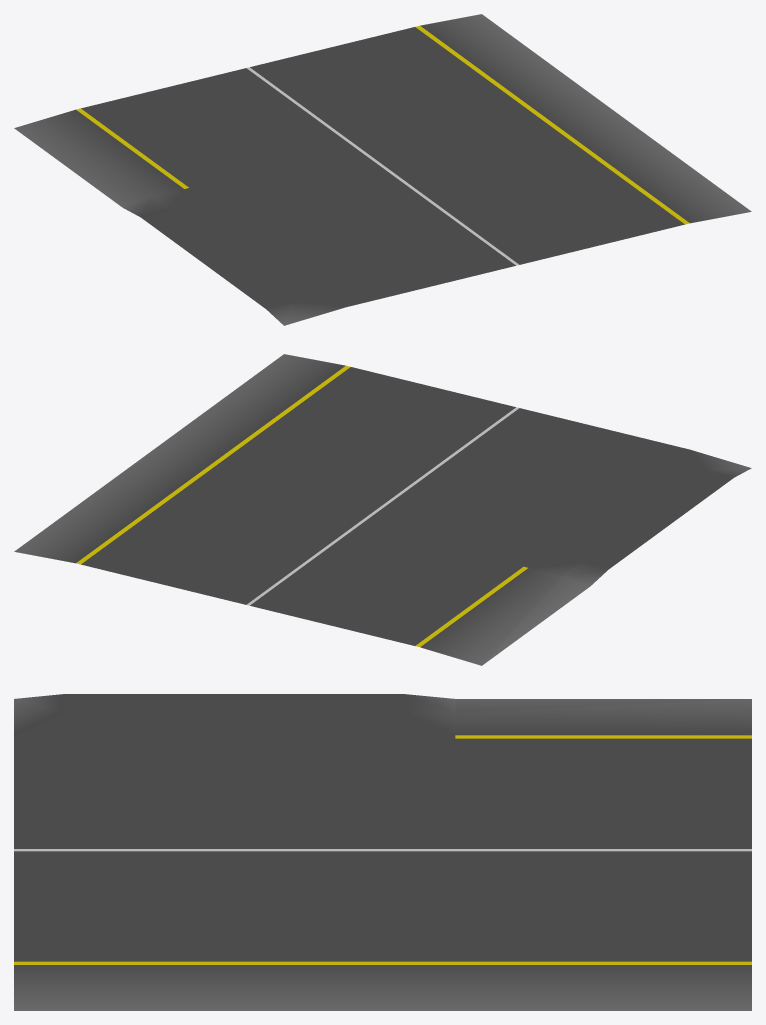
File: Troad_4_1ex.fbx
The picture shows the model from 3 angles, top to bottom: view 1: azimuth 30°, elevation 25°; view 2: azimuth 150°, elevation 25°; view 3: azimuth 270°, elevation 25°; orthographic projection. The views are drawn at different scales.
Visible parts, largest first — view 1: Troad_4_1ex; view 2: Troad_4_1ex; view 3: Troad_4_1ex.
Boxes of the visible parts, x1=… form: Troad_4_1ex: x1=14, y1=14, x2=751, y2=325; Troad_4_1ex: x1=14, y1=354, x2=751, y2=665; Troad_4_1ex: x1=14, y1=694, x2=751, y2=1010.
Bounding box in the file's own units: 14 × 14 × 0.1.
